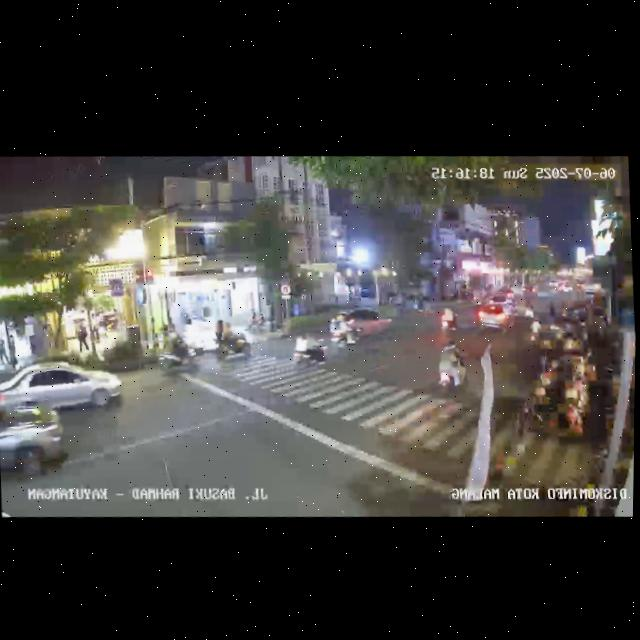car: (0, 354, 123, 418), (0, 401, 72, 489), (335, 305, 395, 347), (475, 301, 522, 336)
motorcycle: (156, 331, 201, 382), (434, 339, 470, 401), (212, 322, 253, 368), (291, 329, 330, 372), (328, 311, 360, 350), (440, 304, 459, 335), (527, 312, 543, 347)
person: (212, 317, 228, 349), (76, 320, 89, 355), (91, 321, 102, 353), (247, 308, 260, 333), (8, 335, 18, 365)
